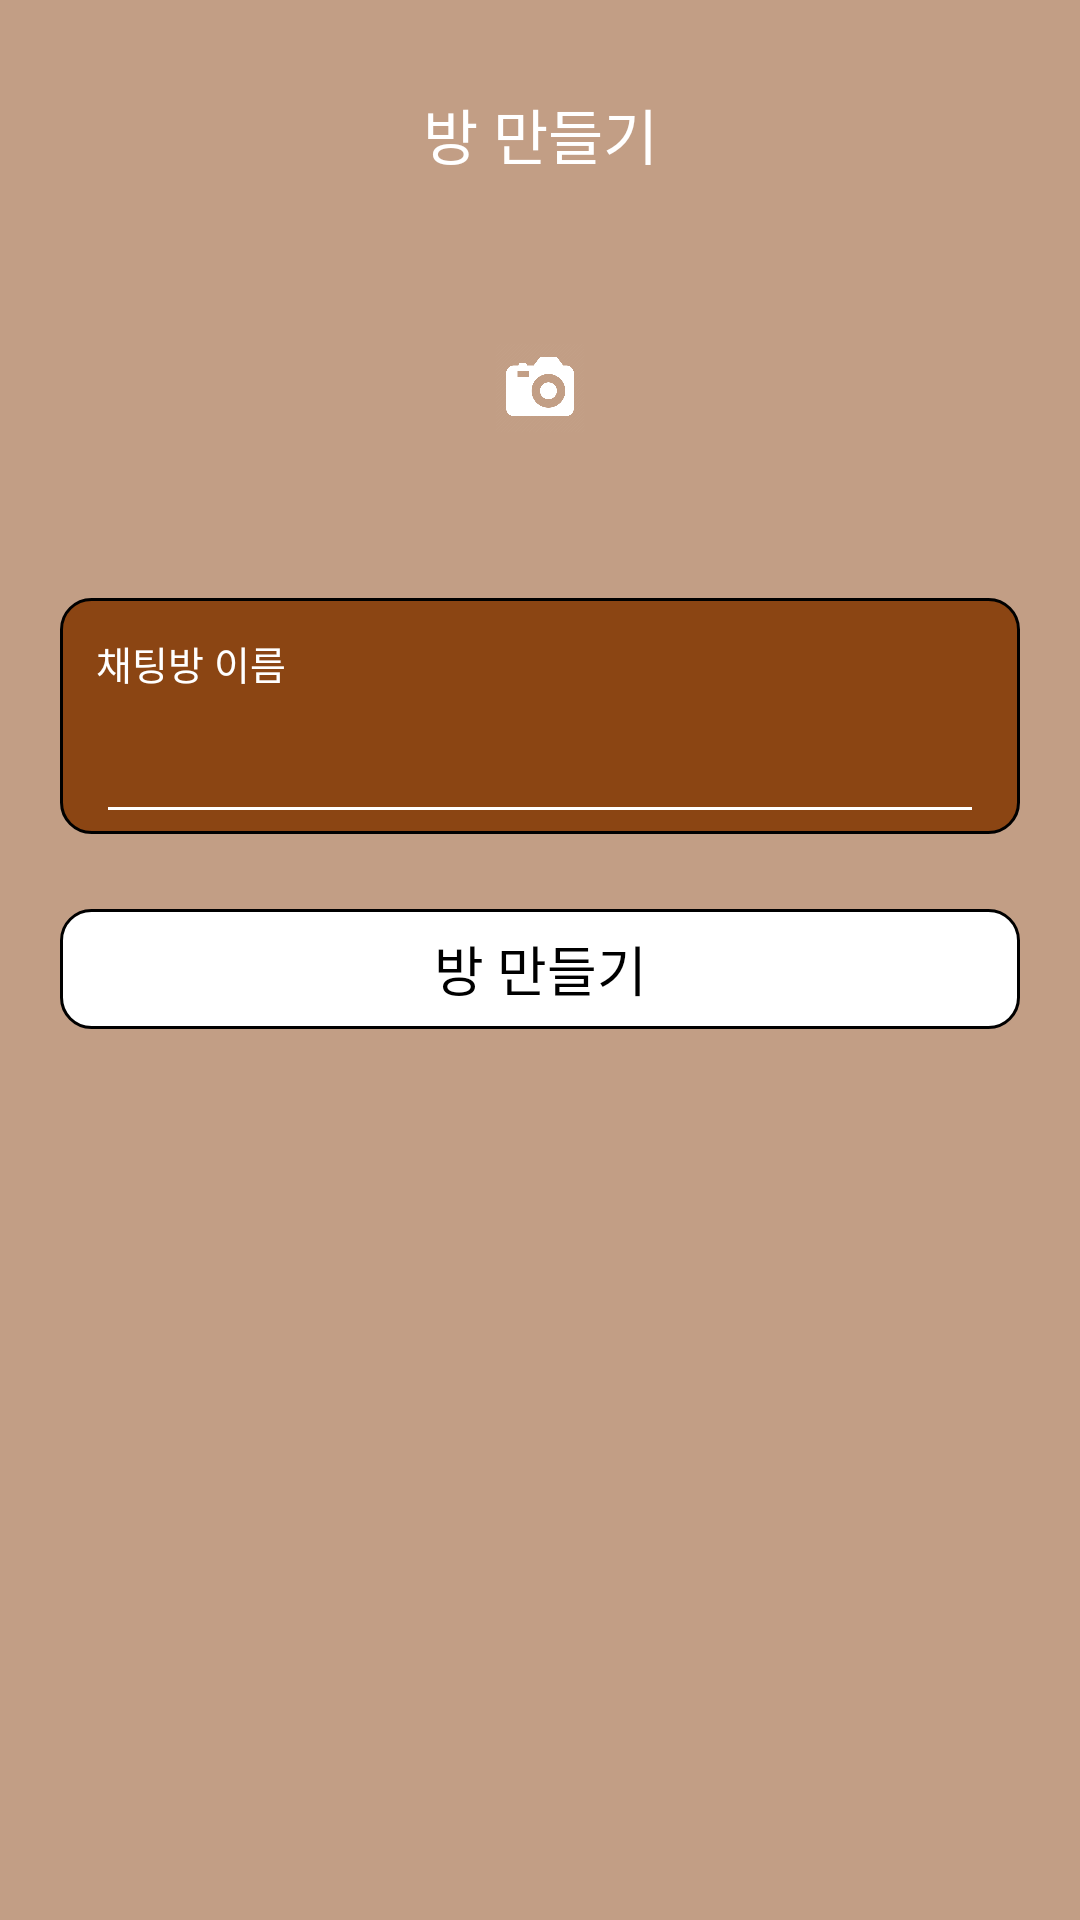

Where icons sit on this 1080 × 1920 app screen, as box(x1, y1, x2, y2):
camera: box(506, 357, 574, 416)
